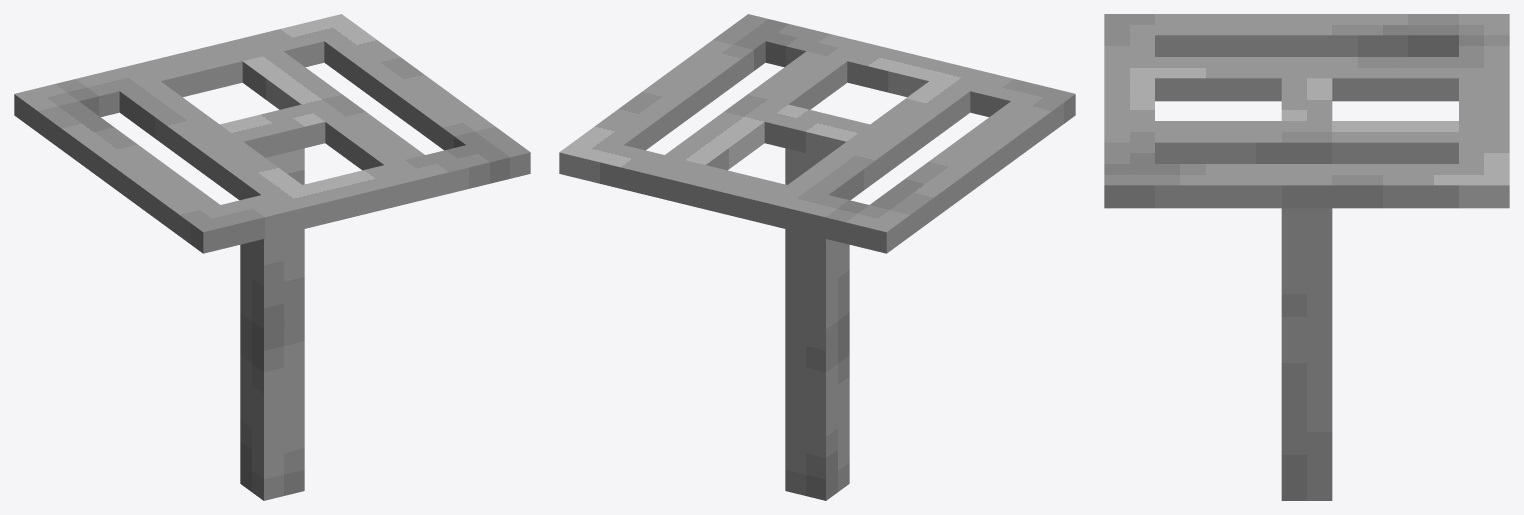
File: Platform.fbx
3 views of the same model, side by side, from view 1: azimuth 30°, elevation 25°; view 2: azimuth 150°, elevation 25°; view 3: azimuth 270°, elevation 25° (orthographic). The views are drawn at different scales.
Parts seen in each view (by area): view 1: cube_1, cube; view 2: cube_1, cube; view 3: cube_1, cube.
Part boxes in pixels (left/top/right/bottom): cube_1: left=14, top=14, right=530, bottom=253; cube: left=240, top=148, right=304, bottom=500; cube_1: left=559, top=14, right=1075, bottom=253; cube: left=785, top=148, right=849, bottom=500; cube_1: left=1104, top=14, right=1509, bottom=208; cube: left=1281, top=208, right=1332, bottom=500.
Bounding box in the file's own units: 100 × 106 × 100.
Materials: 1 (1 with a texture image).
